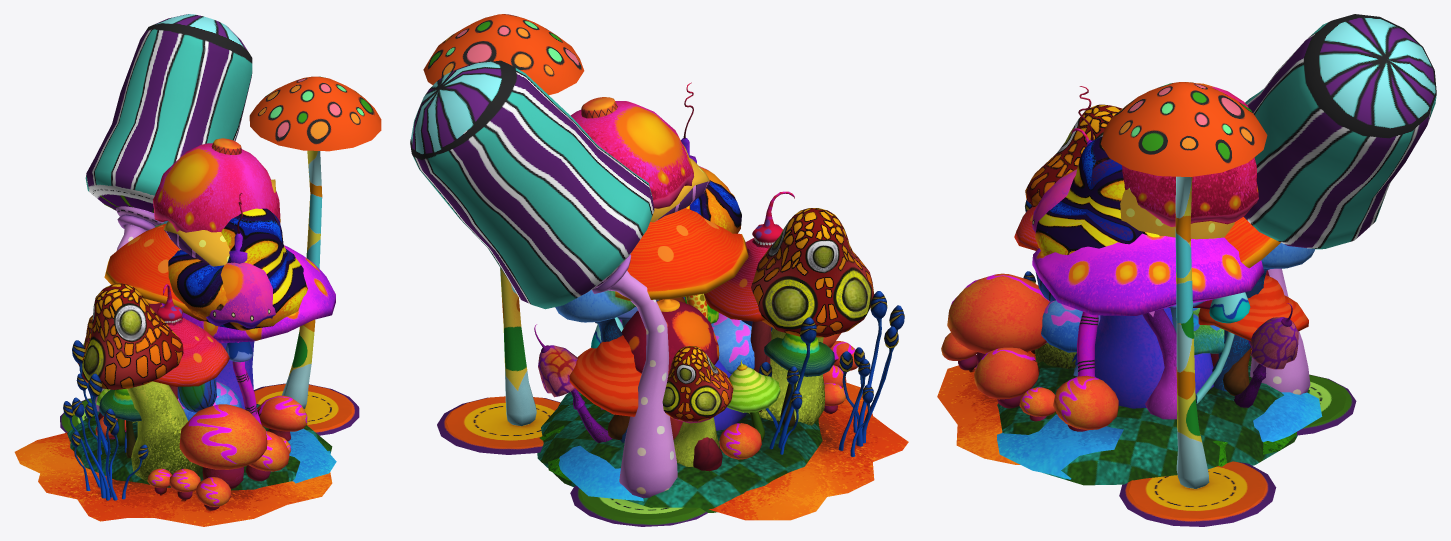
File: Cartoon Musroom.FBX
The picture shows the model from 3 angles, left to right: view 1: azimuth 30°, elevation 25°; view 2: azimuth 150°, elevation 25°; view 3: azimuth 270°, elevation 25°; orthographic projection. The views are drawn at different scales.
Visible parts, largest first — view 1: Cartoon Musroom1, Cartoon Musroom5, Cartoon Musroom2, Cartoon Musroom4, Cartoon Musroom3; view 2: Cartoon Musroom5, Cartoon Musroom1, Cartoon Musroom4, Cartoon Musroom2, Cartoon Musroom3; view 3: Cartoon Musroom5, Cartoon Musroom1, Cartoon Musroom3, Cartoon Musroom4, Cartoon Musroom2.
Boxes of the visible parts, x1=… form: Cartoon Musroom1: x1=14, y1=208, x2=332, y2=526; Cartoon Musroom5: x1=60, y1=14, x2=381, y2=435; Cartoon Musroom2: x1=145, y1=138, x2=280, y2=424; Cartoon Musroom4: x1=67, y1=224, x2=332, y2=490; Cartoon Musroom3: x1=161, y1=245, x2=336, y2=483; Cartoon Musroom5: x1=410, y1=14, x2=710, y2=526; Cartoon Musroom1: x1=662, y1=143, x2=908, y2=520; Cartoon Musroom4: x1=537, y1=191, x2=834, y2=512; Cartoon Musroom2: x1=534, y1=82, x2=772, y2=481; Cartoon Musroom3: x1=558, y1=313, x2=754, y2=501; Cartoon Musroom5: x1=1100, y1=14, x2=1436, y2=526; Cartoon Musroom1: x1=937, y1=104, x2=1251, y2=464; Cartoon Musroom3: x1=997, y1=233, x2=1322, y2=479; Cartoon Musroom4: x1=997, y1=128, x2=1309, y2=485; Cartoon Musroom2: x1=1032, y1=83, x2=1315, y2=466.
Size of the model in its own units: 90.31 by 88.48 by 90.35.
